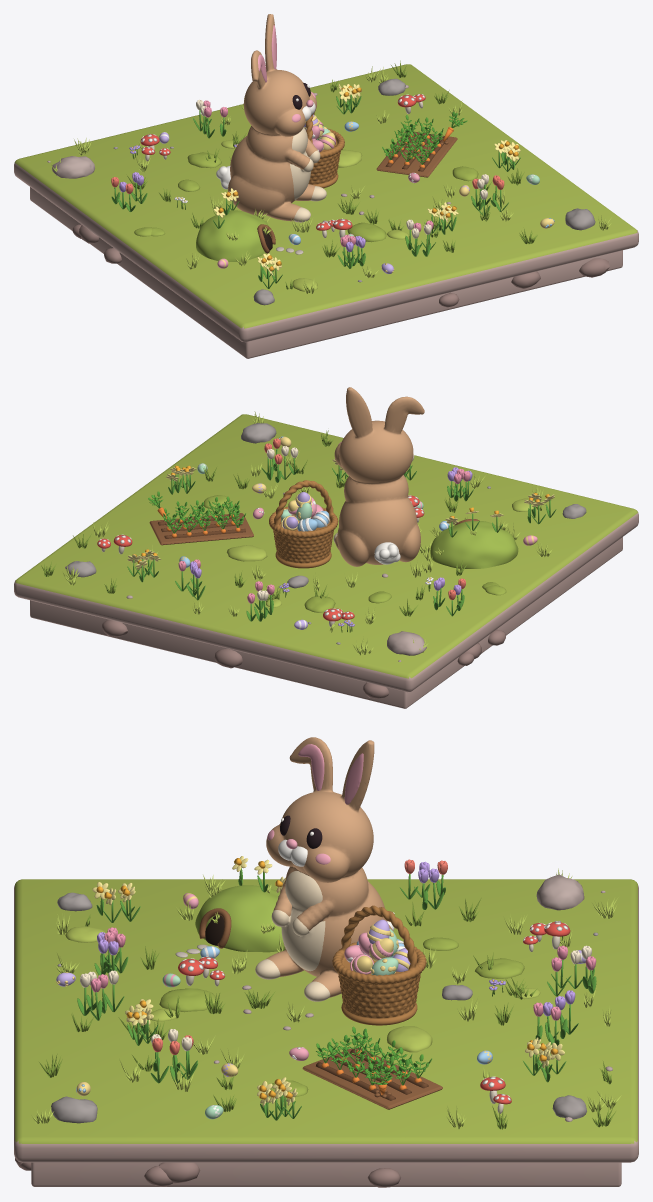
The model's file is bunny.glb.
3 views of the same model, one above another, from view 1: azimuth 30°, elevation 25°; view 2: azimuth 150°, elevation 25°; view 3: azimuth 270°, elevation 25° (orthographic). The views are drawn at different scales.
Visible parts, largest first — view 1: Base, Blossoms, Grass, Bulbs, Burrow, CarrotPatch, Rocks, Trunk, Toadstools, Eggs; view 2: Base, Blossoms, Grass, Bulbs, Burrow, CarrotPatch, Trunk, Rocks, Toadstools, Eggs; view 3: Base, Blossoms, Bulbs, Grass, CarrotPatch, Trunk, Burrow, Rocks, Toadstools, Eggs.
Part boxes in pixels (x1,y1,x2,y2): Base: [14, 64, 638, 358]; Blossoms: [216, 14, 335, 222]; Grass: [51, 60, 611, 293]; Bulbs: [111, 84, 520, 288]; Burrow: [196, 209, 303, 261]; CarrotPatch: [376, 111, 467, 177]; Rocks: [47, 78, 595, 305]; Trunk: [305, 113, 344, 188]; Toadstools: [140, 94, 425, 238]; Eggs: [159, 121, 554, 274]; Base: [14, 414, 638, 708]; Blossoms: [281, 387, 424, 566]; Grass: [41, 411, 551, 655]; Bulbs: [127, 438, 556, 621]; Burrow: [430, 516, 518, 568]; CarrotPatch: [148, 491, 253, 545]; Trunk: [269, 480, 338, 568]; Rocks: [65, 423, 586, 661]; Toadstools: [97, 495, 424, 627]; Eggs: [179, 436, 537, 629]; Base: [14, 879, 638, 1187]; Blossoms: [255, 737, 410, 1001]; Bulbs: [77, 856, 596, 1120]; Grass: [31, 868, 621, 1129]; CarrotPatch: [302, 1026, 442, 1109]; Trunk: [332, 905, 426, 1025]; Burrow: [175, 881, 284, 957]; Rocks: [51, 874, 612, 1123]; Toadstools: [178, 921, 570, 1113]; Eggs: [56, 893, 585, 1119].
Bounding box in the file's own units: 72 × 37.63 × 72.
